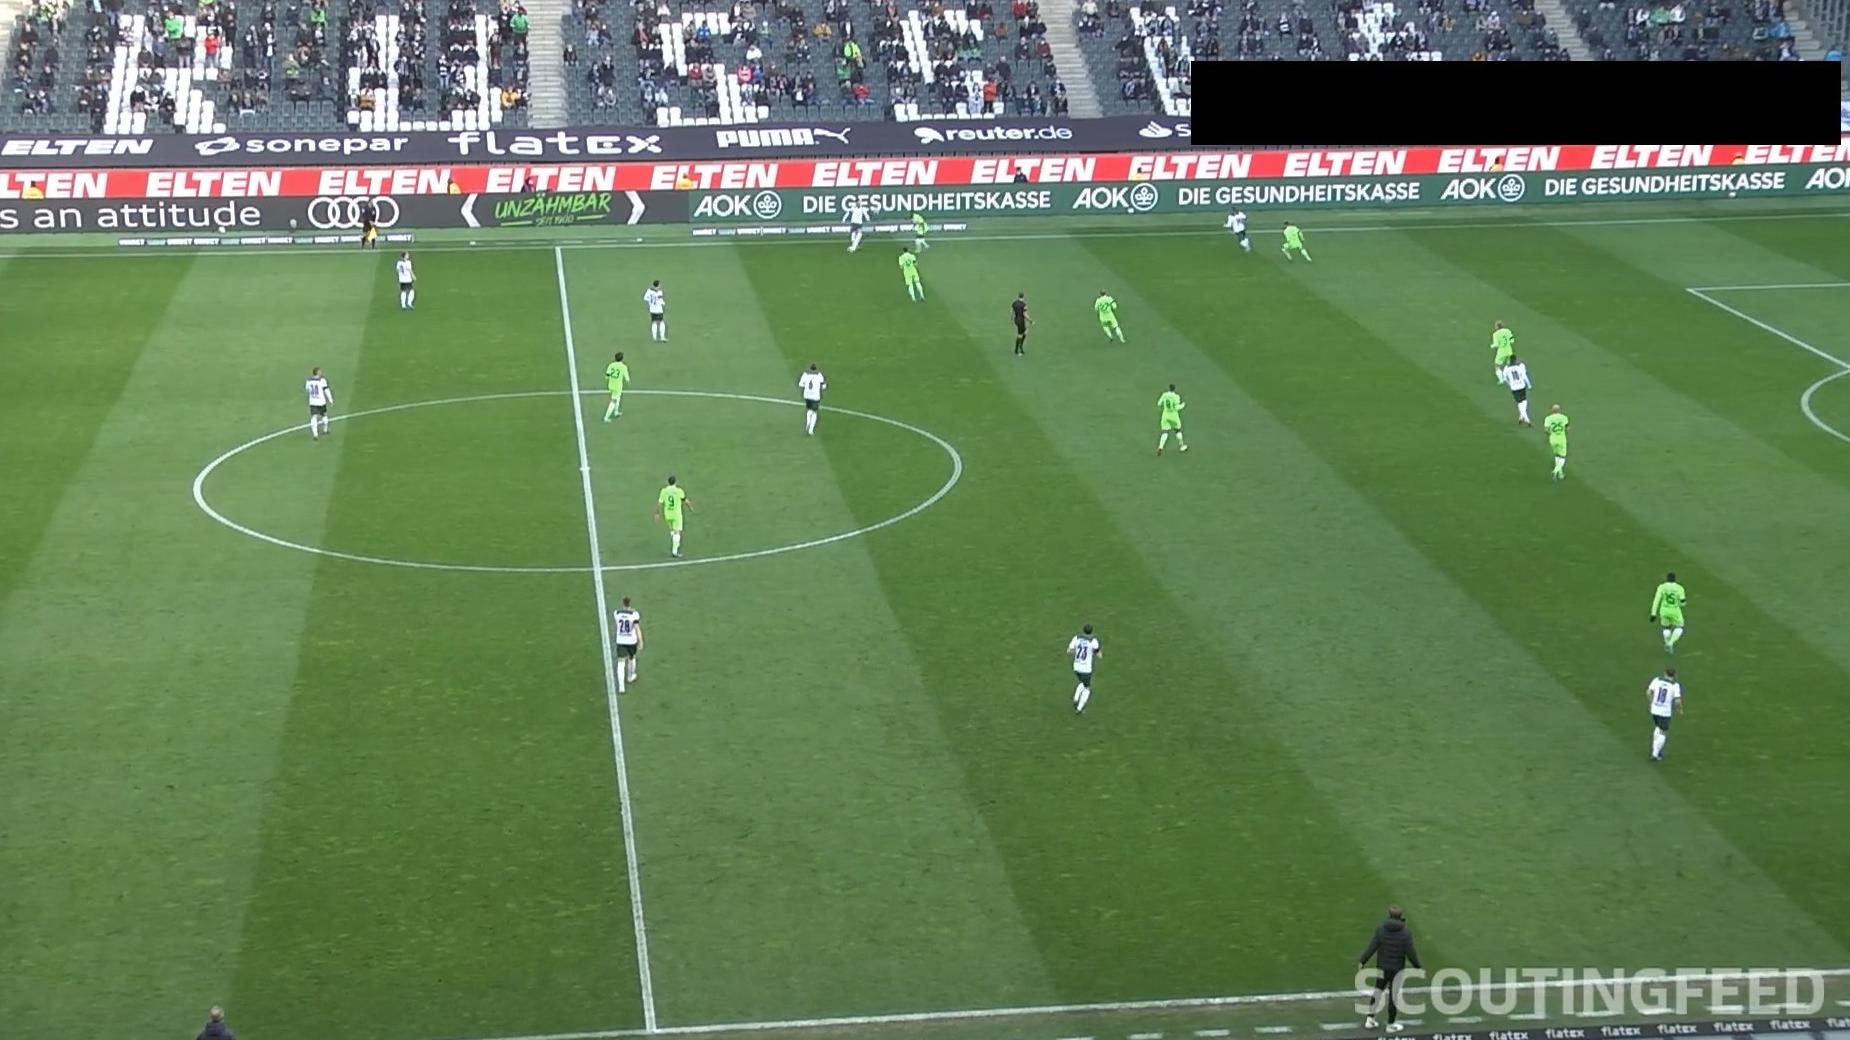ball: (846, 244, 856, 254)
